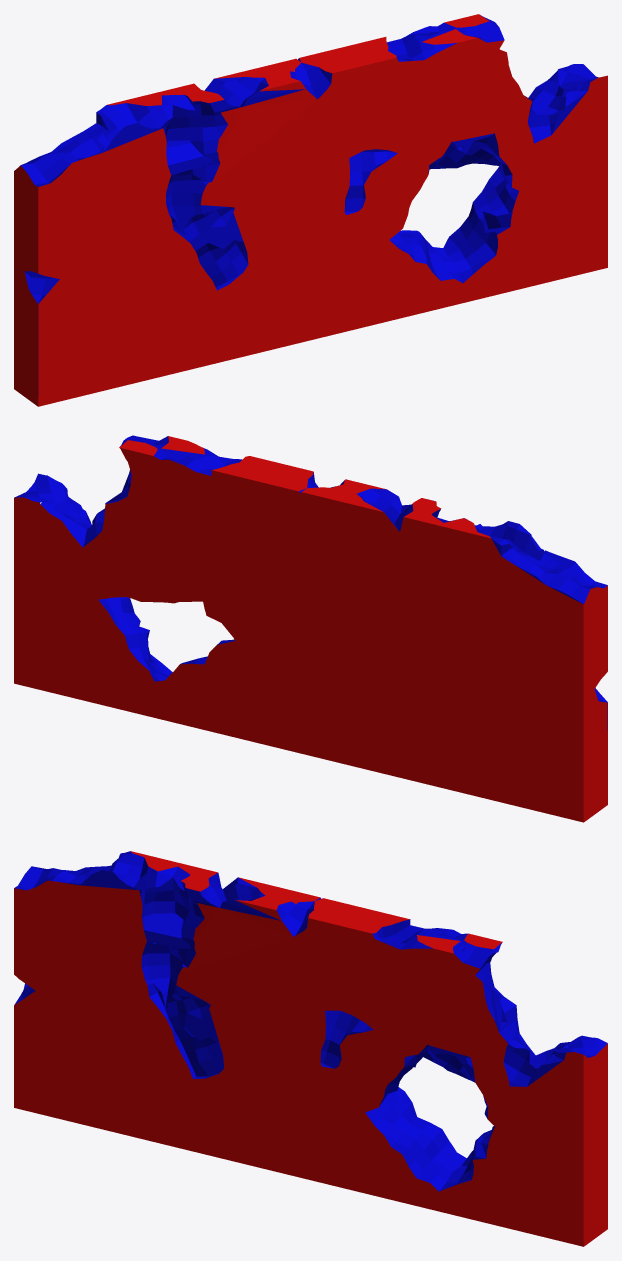
The model's file is broken walls2.fbx.
3 views of the same model, one above another, from view 1: azimuth 30°, elevation 25°; view 2: azimuth 150°, elevation 25°; view 3: azimuth 330°, elevation 25° (orthographic).
Parts seen in each view (by area): view 1: wall.002; view 2: wall.002; view 3: wall.002.
Boxes of the visible parts, x1=… form: wall.002: x1=14, y1=14, x2=607, y2=406; wall.002: x1=14, y1=435, x2=607, y2=822; wall.002: x1=14, y1=851, x2=607, y2=1246.
Size of the model in its own units: 12.43 by 5.45 by 0.914.
